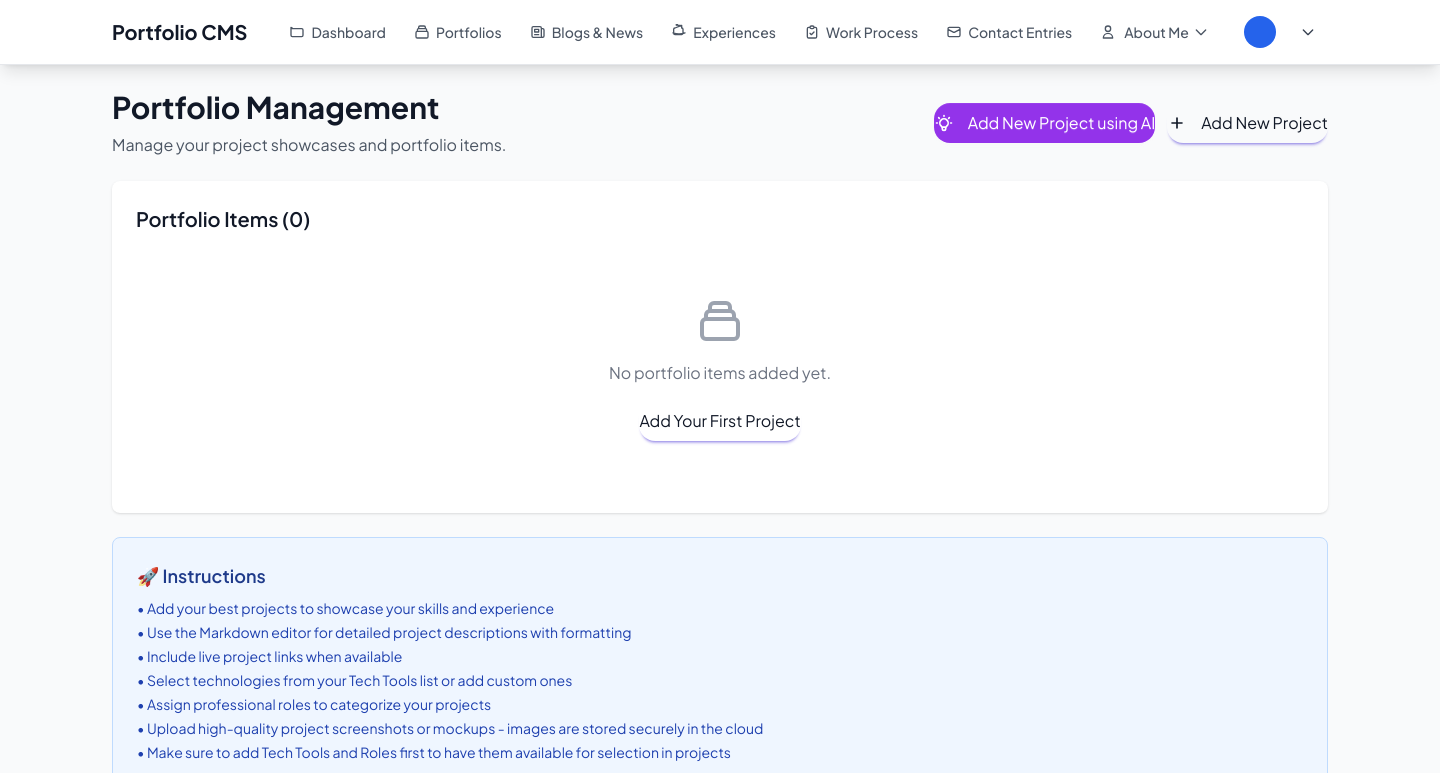
Test: PortfolioManagement - Custom Technologies Input › resets custom tech input buffer when clicking Clear all
This screenshot has width=1440, height=773.
Click the button "Add Your First Project" at x=720, y=421, box top-left (639, 401), bottom-right (801, 441)
(page scrolled)
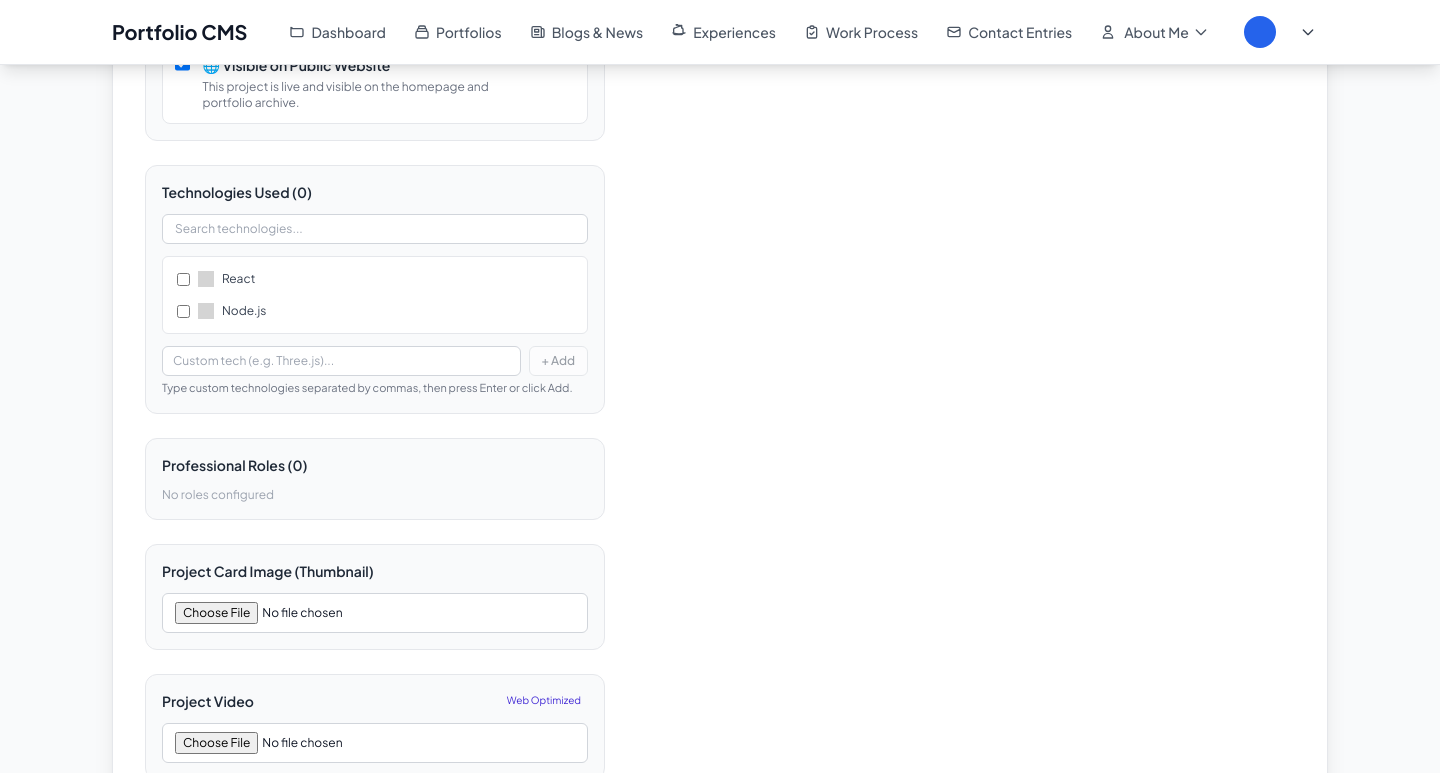
Check: the field with test id "custom-tech-input" is shown
Type "TechToClear" into the field with test id "custom-tech-input" at x=341, y=361, box top-left (162, 346), bottom-right (520, 376)
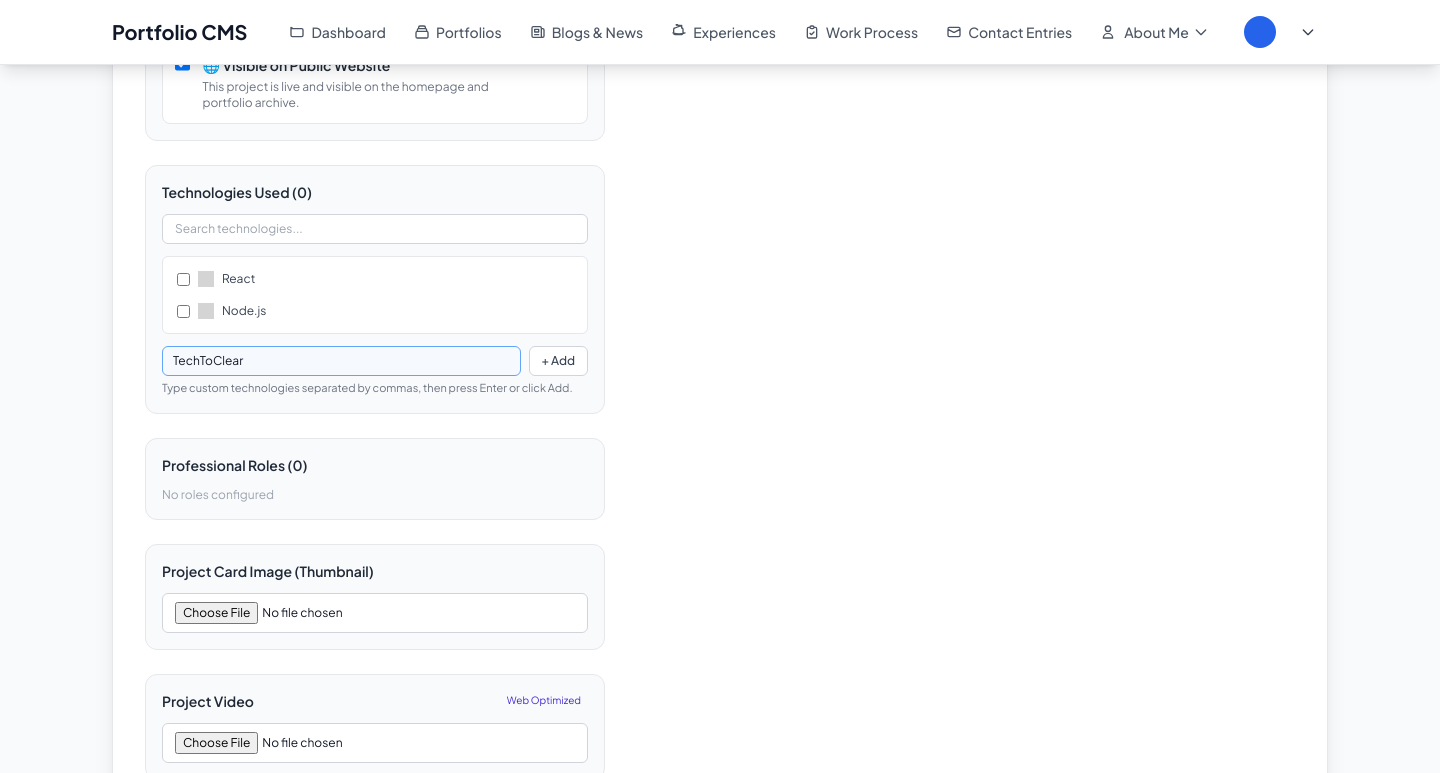
Click the button with test id "add-custom-tech-btn" at x=558, y=361, box top-left (528, 346), bottom-right (588, 376)
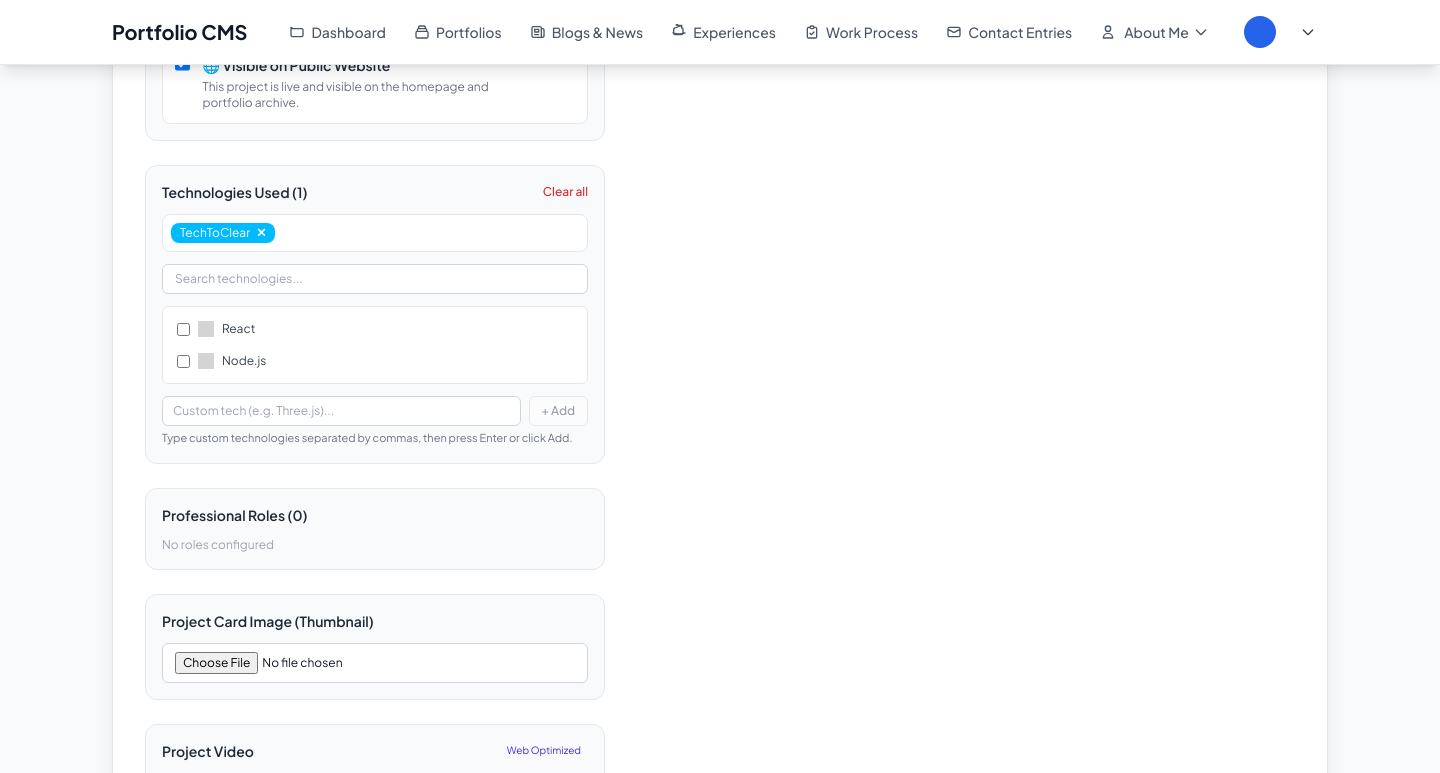
Check: the text "TechToClear" is shown, box top-left (180, 225), bottom-right (250, 240)
Type "PendingToClear" into the field with test id "custom-tech-input" at x=341, y=411, box top-left (162, 396), bottom-right (520, 426)
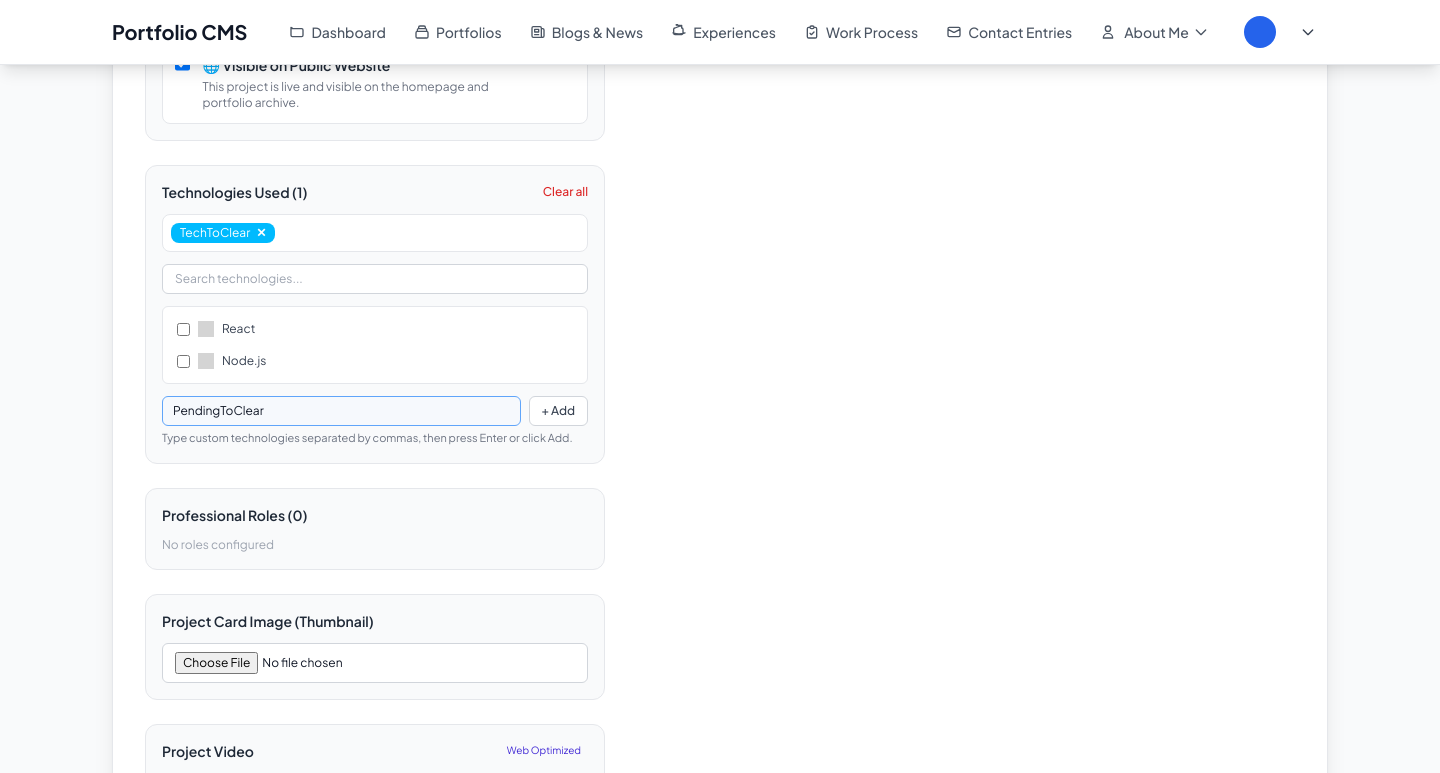
Click the button "Clear all" at x=565, y=192, box top-left (543, 184), bottom-right (588, 200)
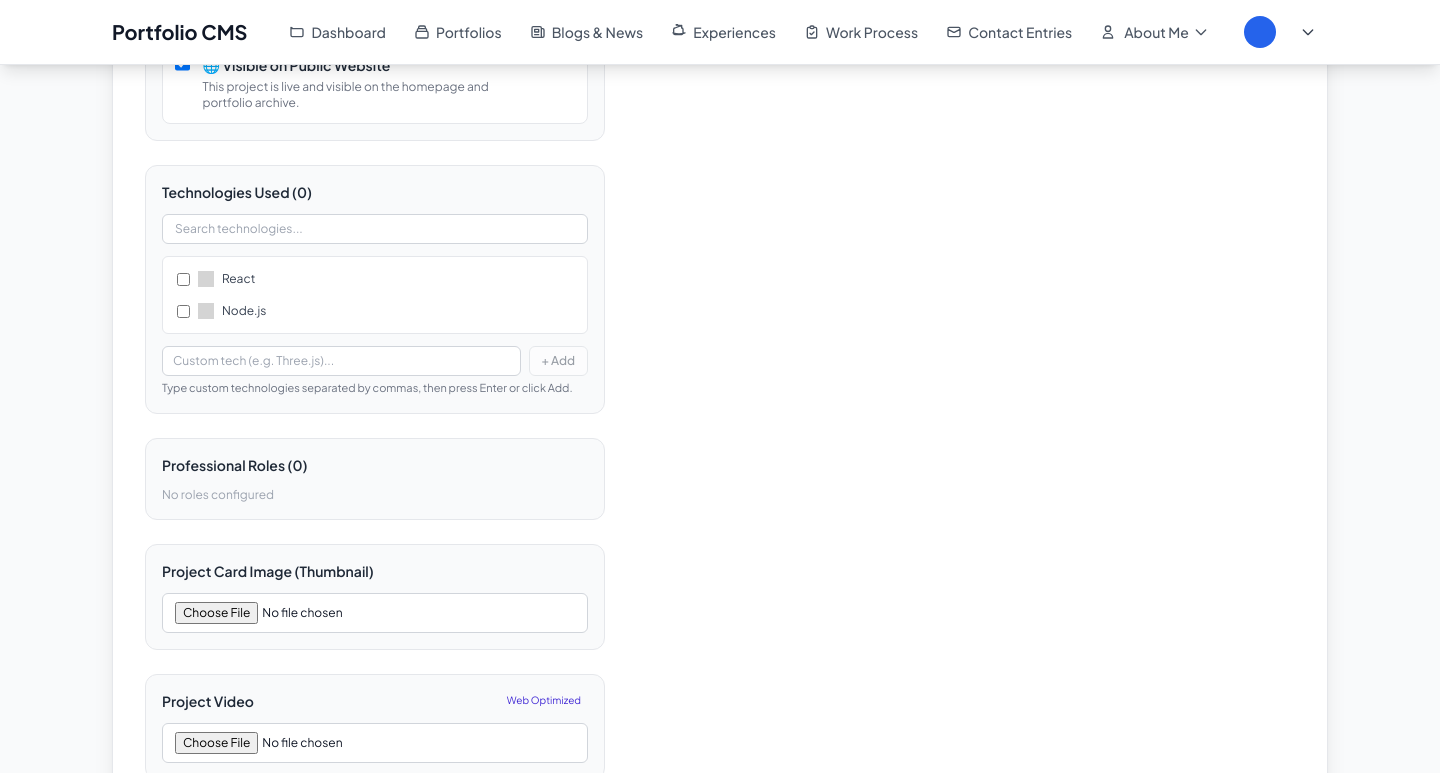
Check: the text "TechToClear" is gone
Check: the field with test id "custom-tech-input" is empty, box top-left (162, 346), bottom-right (520, 376)
